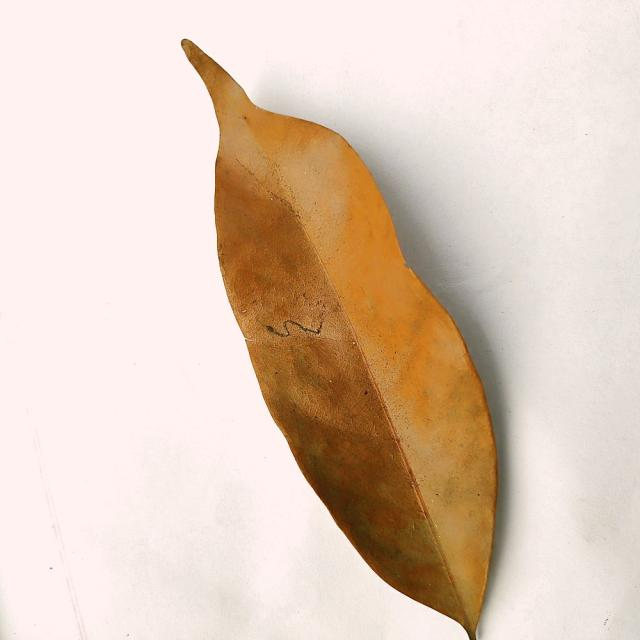Dry_Leaf-Lychee: (180, 38, 499, 639)
